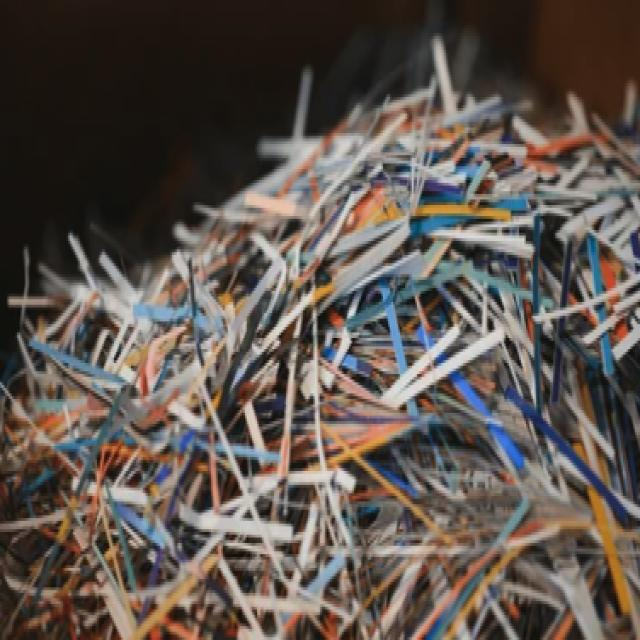KertasBekas: (0, 49, 638, 637)
